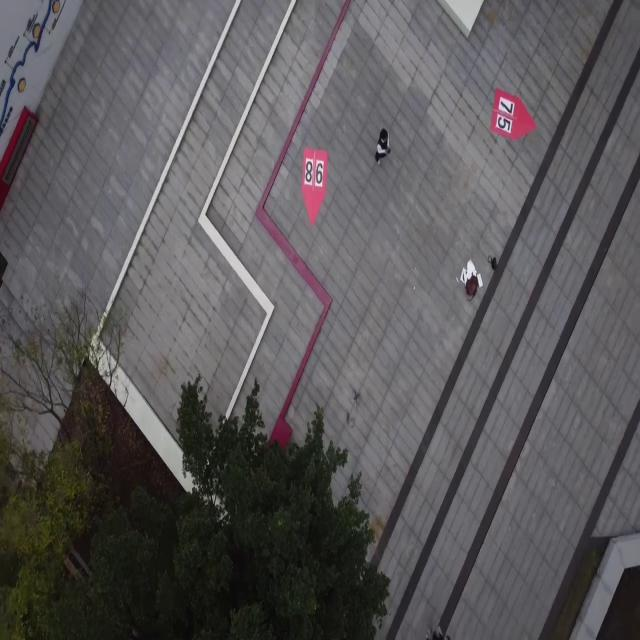-sign-: (489, 86, 536, 142), (301, 146, 328, 227)
